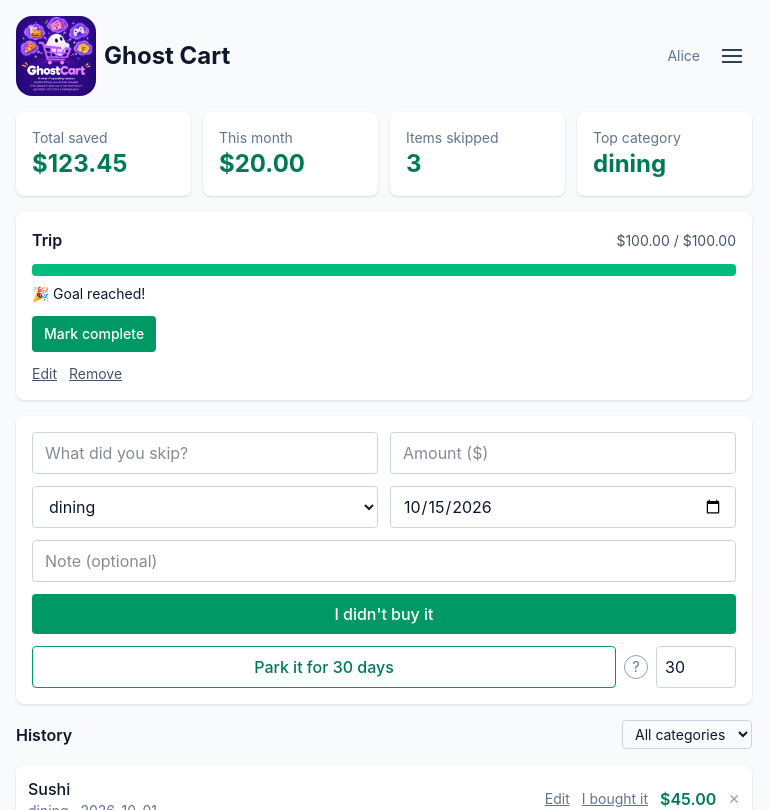
App › completes a reached goal and offers Undo
This screenshot has width=769, height=810.
Click the button "Mark complete".
click(94, 334)  # box [32, 316, 156, 352]
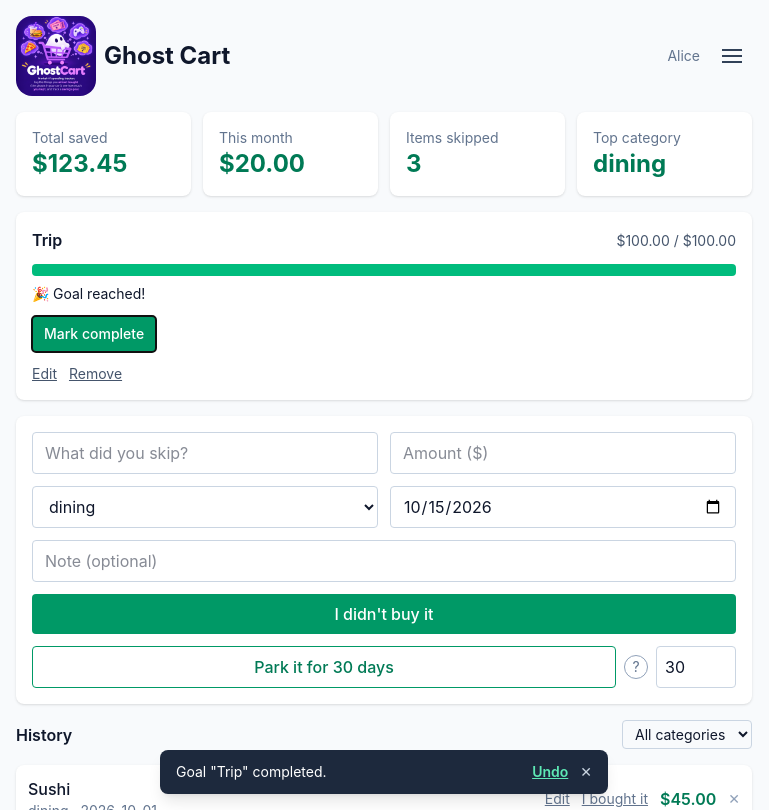
Check: the text "Goal \"Trip\" completed." is shown, box [176, 762, 327, 782]
